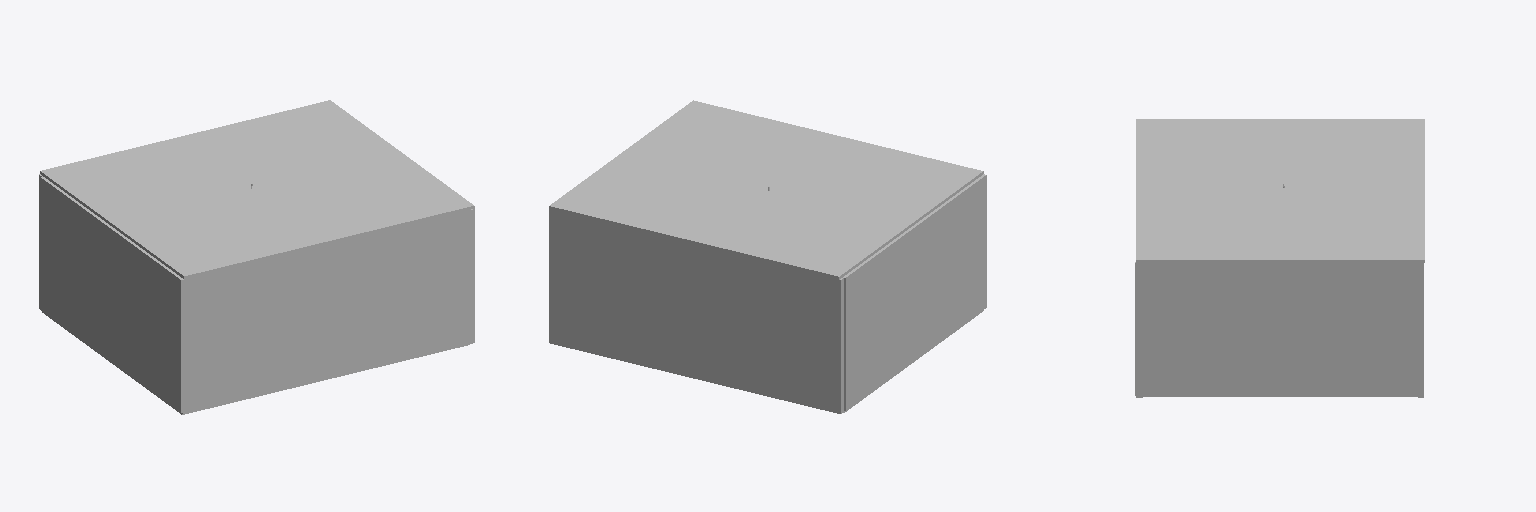
3 views of the same model, side by side, from view 1: azimuth 30°, elevation 25°; view 2: azimuth 150°, elevation 25°; view 3: azimuth 270°, elevation 25° (orthographic).
Visible parts, largest first — view 1: group[number redacted], group[number redacted], group[number redacted], group[number redacted]; view 2: group[number redacted], group[number redacted], group[number redacted], group[number redacted]; view 3: group[number redacted], group[number redacted], group[number redacted], group[number redacted].
Boxes of the visible parts, box(x1,y1,x2,y2) form: group[number redacted]: box(40, 100, 474, 278); group[number redacted]: box(180, 209, 474, 413); group[number redacted]: box(40, 177, 183, 412); group[number redacted]: box(124, 251, 161, 329); group[number redacted]: box(549, 100, 983, 279); group[number redacted]: box(549, 209, 843, 413); group[number redacted]: box(843, 174, 986, 410); group[number redacted]: box(861, 200, 966, 287); group[number redacted]: box(1136, 119, 1424, 262); group[number redacted]: box(1135, 262, 1417, 395); group[number redacted]: box(1136, 263, 1144, 397); group[number redacted]: box(1418, 263, 1423, 397).
Bounding box in the file's own units: 2.03 × 0.9477 × 1.74.